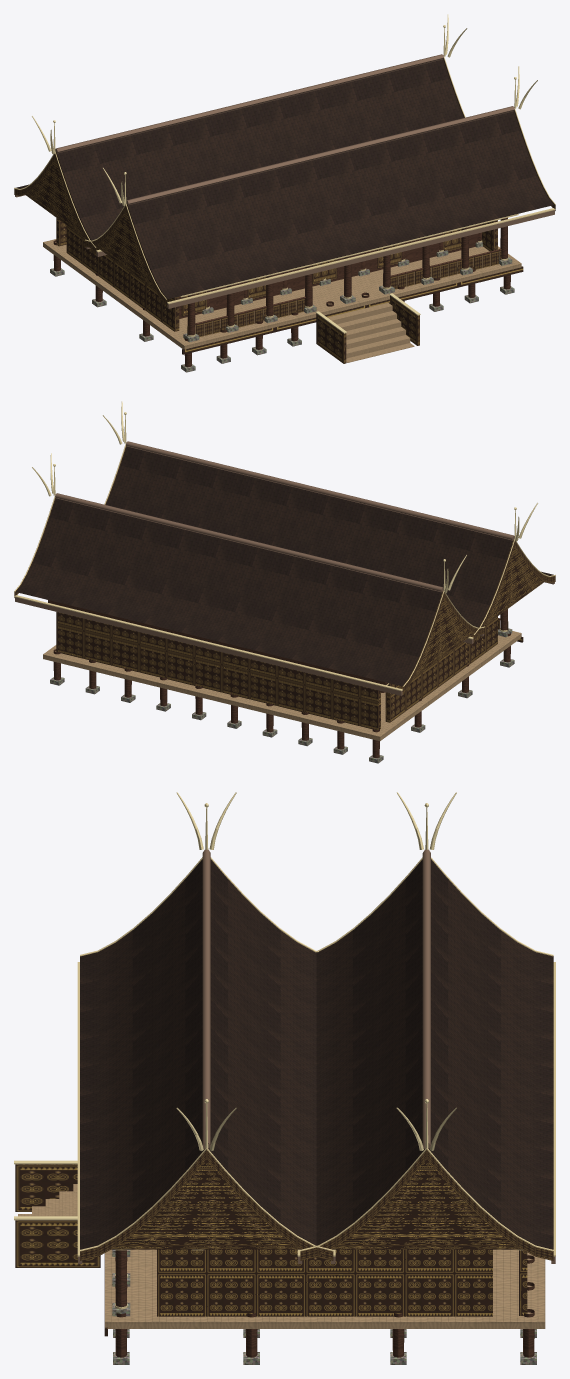
The model's file is house-placeholder.glb.
3 views of the same model, one above another, from view 1: azimuth 30°, elevation 25°; view 2: azimuth 150°, elevation 25°; view 3: azimuth 270°, elevation 25° (orthographic). The views are drawn at different scales.
Parts seen in each view (by area): view 1: house_placeholder; view 2: house_placeholder; view 3: house_placeholder.
Boxes of the visible parts, x1,y1,x2,y2 form: house_placeholder: (14,14,555,372); house_placeholder: (14,401,555,763); house_placeholder: (14,792,555,1364).
Bounding box in the file's own units: 27.16 × 11.64 × 19.69.
Materials: 8 (5 with a texture image).
